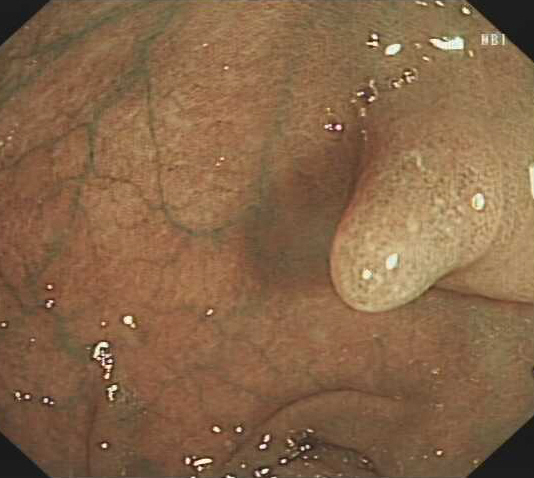adenoma: (325, 106, 508, 318)
